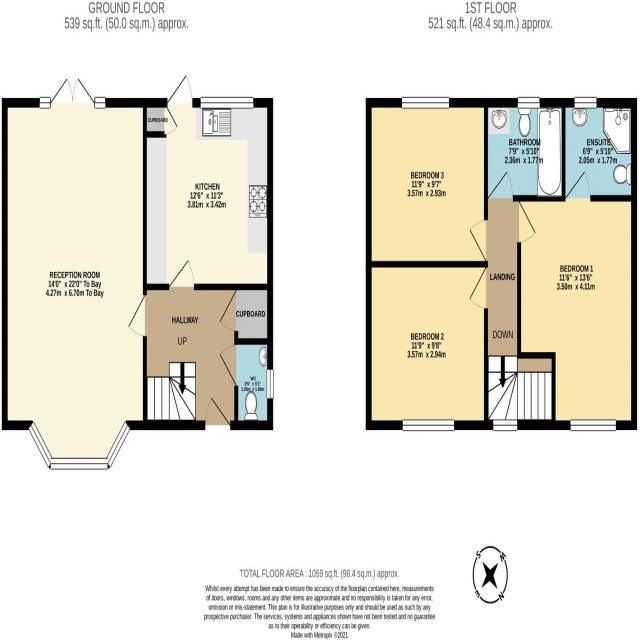DOOR: (202, 394, 232, 430), (564, 167, 593, 202), (126, 291, 147, 339), (468, 217, 488, 266), (166, 257, 195, 290), (487, 168, 516, 201), (166, 74, 194, 108), (468, 267, 488, 312), (519, 202, 538, 243)
DOUBLE DOOR: (49, 74, 95, 108)
ROOM: (1, 75, 148, 472), (517, 164, 637, 431), (143, 71, 273, 291), (366, 98, 488, 268), (366, 261, 488, 430)
WINDOW: (27, 418, 133, 472), (401, 417, 456, 433), (569, 416, 617, 434), (401, 95, 450, 111), (200, 96, 255, 110), (492, 417, 519, 434), (265, 366, 275, 401), (574, 96, 598, 110), (517, 96, 540, 110)
